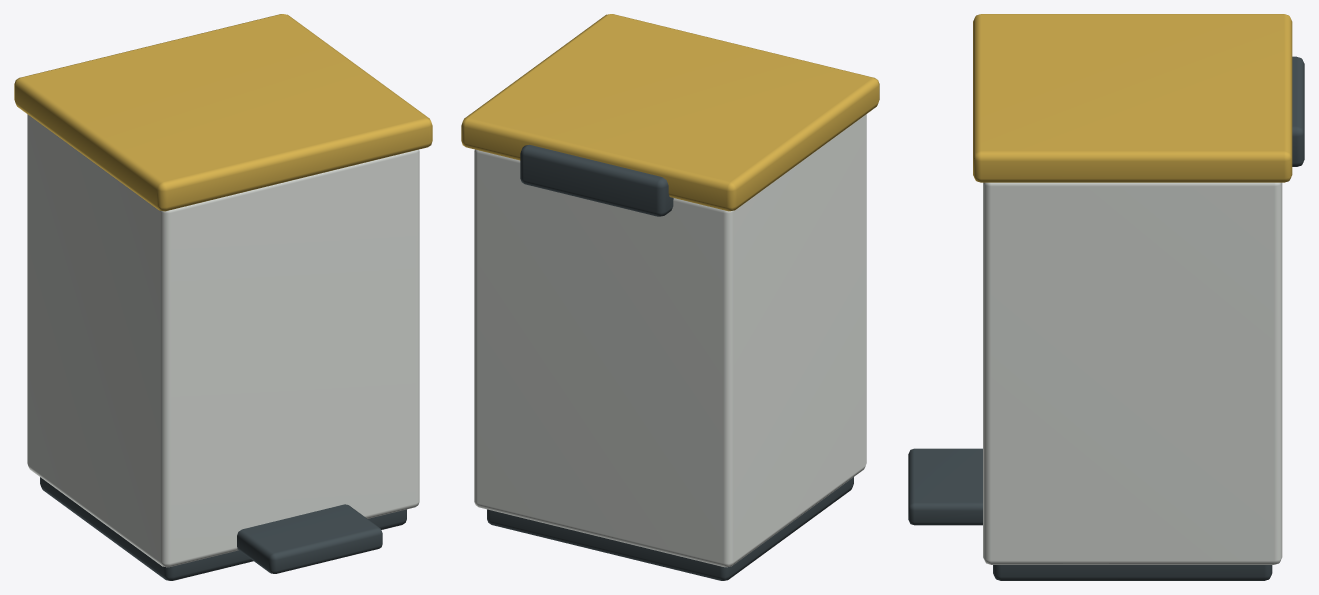
Rendered from pedal_bin.fbx.
The picture shows the model from 3 angles, left to right: view 1: azimuth 30°, elevation 25°; view 2: azimuth 150°, elevation 25°; view 3: azimuth 270°, elevation 25°; orthographic projection. The views are drawn at different scales.
Parts seen in each view (by area): view 1: EQ_pedal_bin_M_Ivory, EQ_pedal_bin_M_Amber, EQ_pedal_bin_M_PlasticGrey; view 2: EQ_pedal_bin_M_Ivory, EQ_pedal_bin_M_Amber, EQ_pedal_bin_M_PlasticGrey; view 3: EQ_pedal_bin_M_Ivory, EQ_pedal_bin_M_Amber, EQ_pedal_bin_M_PlasticGrey.
Part boxes in pixels (x1=…): EQ_pedal_bin_M_Ivory: x1=27, y1=114, x2=419, y2=567; EQ_pedal_bin_M_Amber: x1=14, y1=14, x2=432, y2=211; EQ_pedal_bin_M_PlasticGrey: x1=40, y1=477, x2=406, y2=580; EQ_pedal_bin_M_Ivory: x1=474, y1=114, x2=866, y2=567; EQ_pedal_bin_M_Amber: x1=461, y1=14, x2=879, y2=211; EQ_pedal_bin_M_PlasticGrey: x1=487, y1=144, x2=853, y2=580; EQ_pedal_bin_M_Ivory: x1=983, y1=182, x2=1282, y2=564; EQ_pedal_bin_M_Amber: x1=973, y1=14, x2=1292, y2=182; EQ_pedal_bin_M_PlasticGrey: x1=908, y1=56, x2=1304, y2=580.
Size of the model in its own units: 0.34 by 0.485 by 0.3975.
